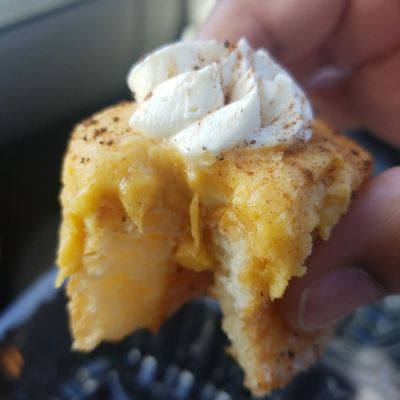sushi: (52, 34, 379, 396)
